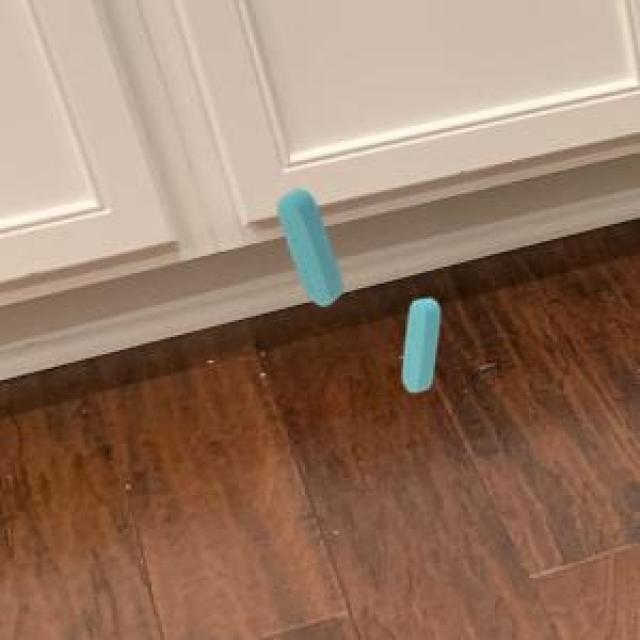Bioflu: (257, 177, 361, 322), (380, 282, 455, 403)
